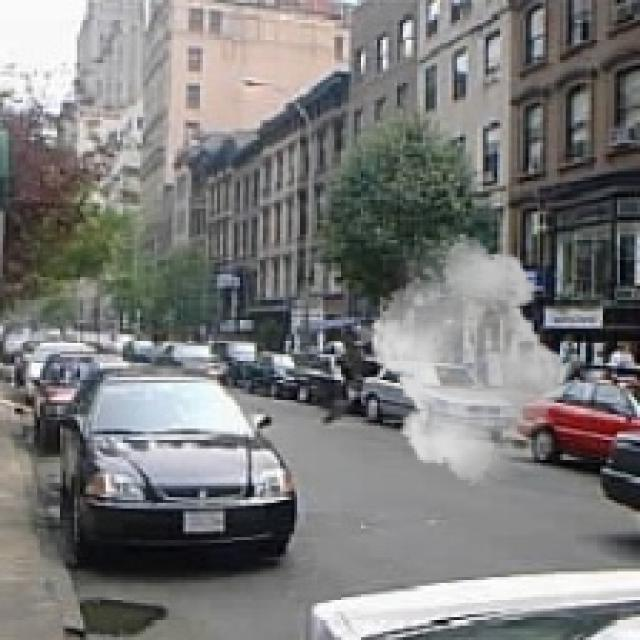Smoke: (363, 231, 574, 486)
